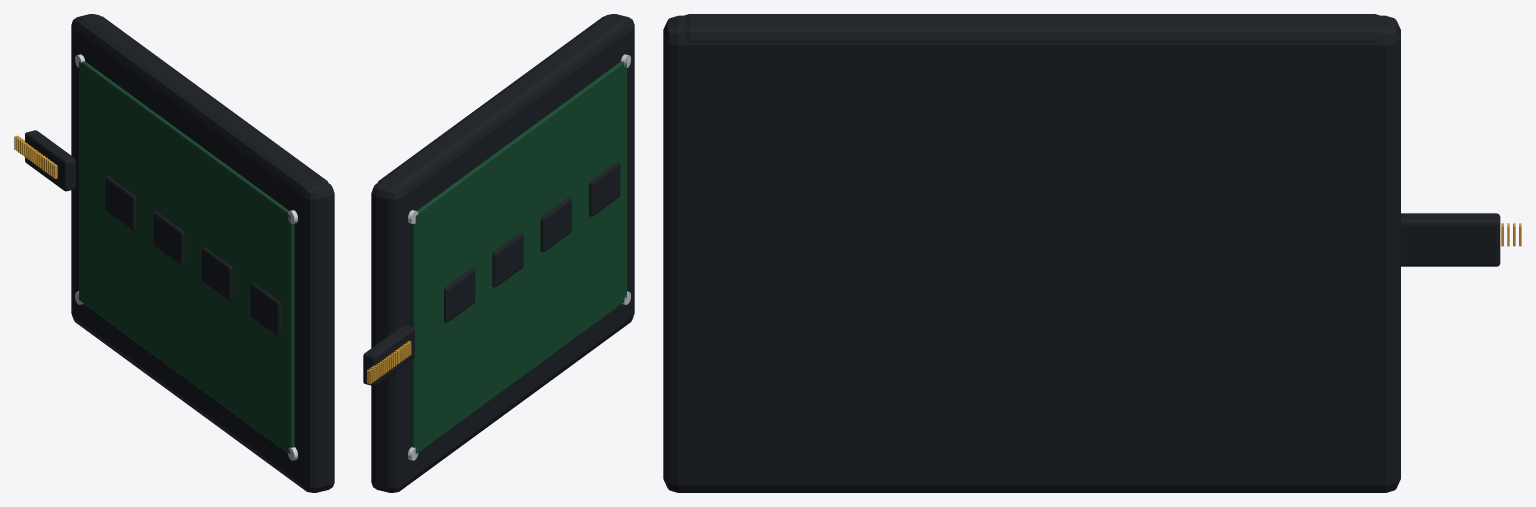
The model's file is ssd.glb.
3 views of the same model, side by side, from view 1: azimuth 30°, elevation 25°; view 2: azimuth 150°, elevation 25°; view 3: azimuth 270°, elevation 25° (orthographic). The views are drawn at different scales.
Visible parts, largest first — view 1: SSD_InternalPCB, SSD_Enclosure, SSD_Cover, SSD_Flash_2, SSD_Flash_1, SSD_Flash_0, SSD_Flash_3, SSD_SATA_Data, SSD_SATA_Power; view 2: SSD_InternalPCB, SSD_Enclosure, SSD_Cover, SSD_Flash_2, SSD_Flash_0, SSD_Flash_3, SSD_Flash_1, SSD_SATA_Power, SSD_SATA_Data; view 3: SSD_Enclosure, SSD_Cover, SSD_SATA_Power, SSD_SATA_Data.
Part boxes in pixels (<box>): SSD_InternalPCB: <box>79,61,294,453</box>; SSD_Enclosure: <box>71,14,334,492</box>; SSD_Cover: <box>76,15,328,192</box>; SSD_Flash_2: <box>153,211,184,266</box>; SSD_Flash_1: <box>201,247,232,301</box>; SSD_Flash_0: <box>250,282,281,336</box>; SSD_Flash_3: <box>105,176,136,230</box>; SSD_SATA_Data: <box>49,148,75,191</box>; SSD_SATA_Power: <box>25,130,61,185</box>; SSD_InternalPCB: <box>411,61,626,453</box>; SSD_Enclosure: <box>371,14,634,492</box>; SSD_Cover: <box>377,15,629,192</box>; SSD_Flash_2: <box>492,232,523,287</box>; SSD_Flash_0: <box>589,162,620,216</box>; SSD_Flash_3: <box>444,268,475,322</box>; SSD_Flash_1: <box>540,197,571,251</box>; SSD_SATA_Power: <box>363,328,409,385</box>; SSD_SATA_Data: <box>391,325,414,366</box>; SSD_Enclosure: <box>663,15,1400,492</box>; SSD_Cover: <box>683,14,1381,42</box>; SSD_SATA_Power: <box>1401,213,1500,266</box>; SSD_SATA_Data: <box>1401,213,1422,266</box>.
Size of the model in its own units: 0.0103 by 0.07 by 0.1164.
